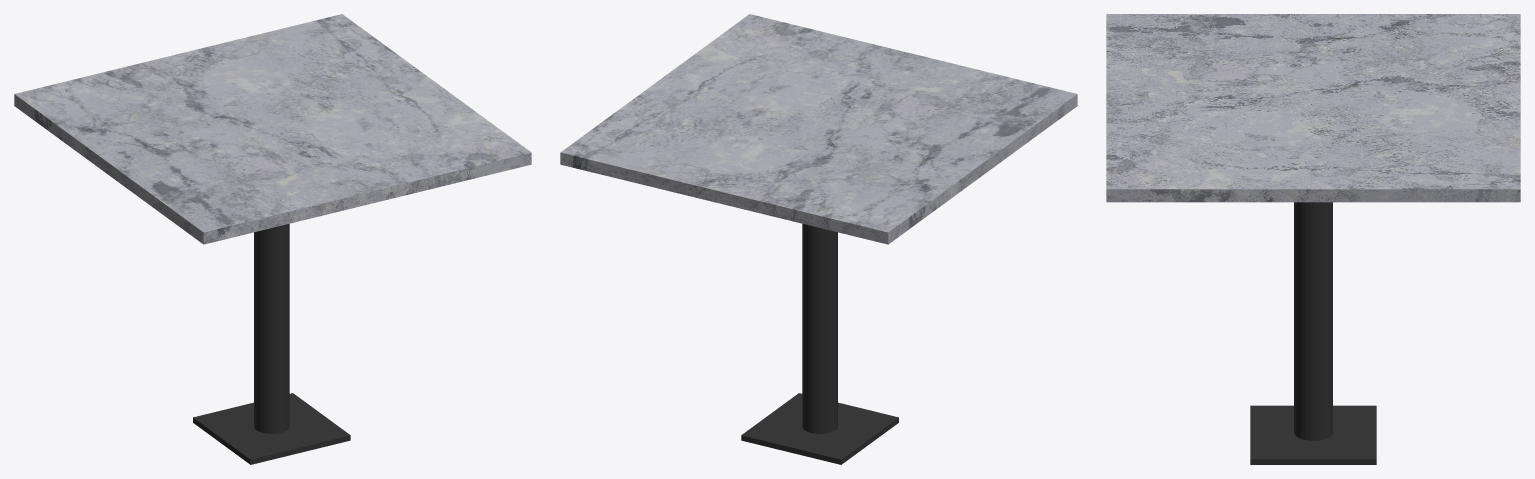
Rendered from table.glb.
The picture shows the model from 3 angles, left to right: view 1: azimuth 30°, elevation 25°; view 2: azimuth 150°, elevation 25°; view 3: azimuth 270°, elevation 25°; orthographic projection. The views are drawn at different scales.
Parts seen in each view (by area): view 1: Cube, Cylinder, Plane; view 2: Cube, Cylinder, Plane; view 3: Cube, Cylinder, Plane.
Boxes of the visible parts, x1,y1,x2,y2 form: Cube: [14, 14, 531, 244]; Cylinder: [254, 223, 289, 433]; Plane: [193, 393, 350, 464]; Cube: [560, 14, 1077, 244]; Cylinder: [802, 223, 837, 433]; Plane: [741, 393, 898, 464]; Cube: [1106, 14, 1520, 202]; Cylinder: [1294, 202, 1332, 440]; Plane: [1250, 405, 1376, 464].
Bounding box in the file's own units: 0.85 × 0.7632 × 0.85.
Materials: 2 (1 with a texture image).
